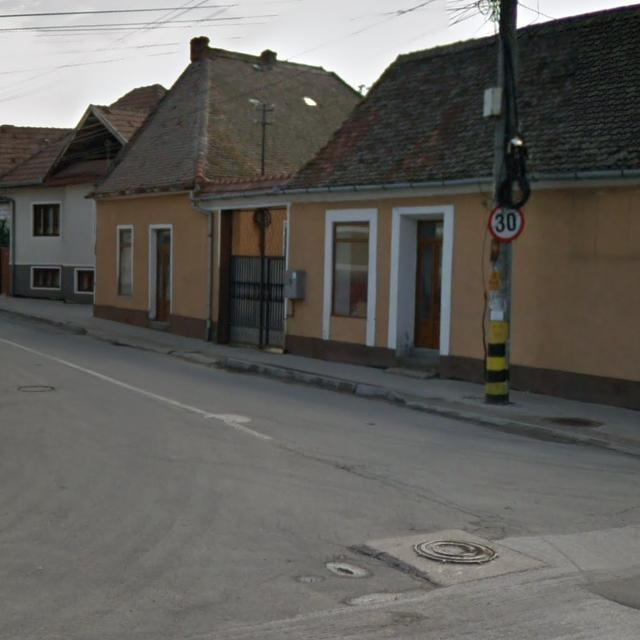forb_speed_over_30: (488, 204, 526, 243)
